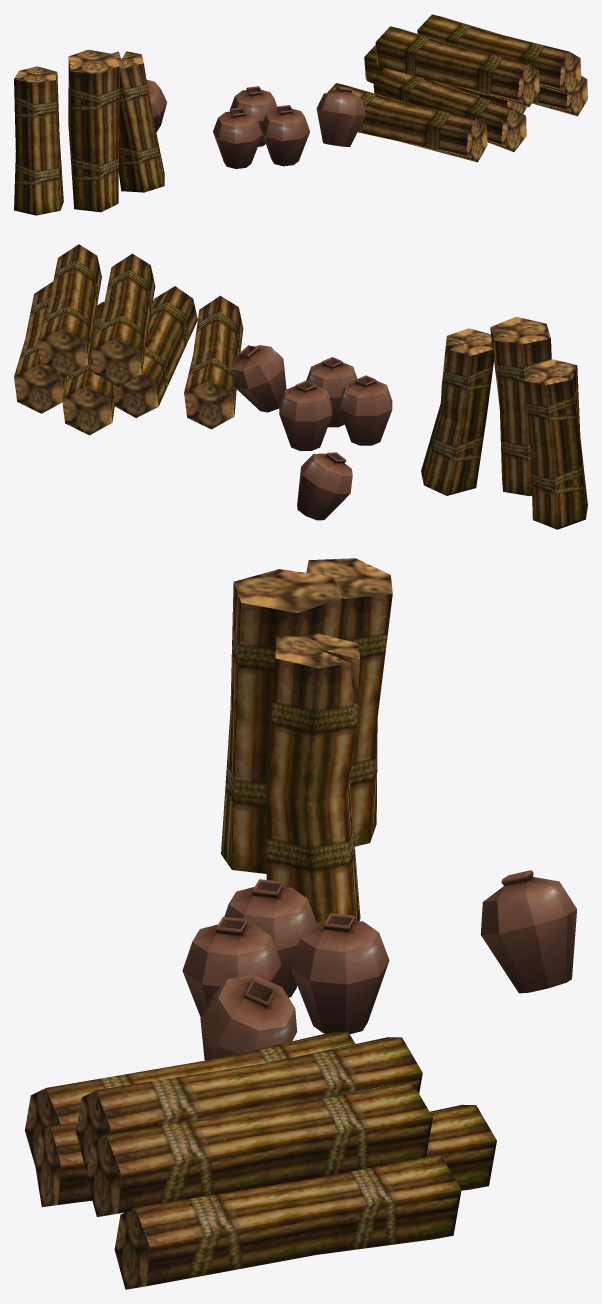
The model's file is cunlou_xiaowujian21.FBX.
3 views of the same model, one above another, from view 1: azimuth 30°, elevation 25°; view 2: azimuth 150°, elevation 25°; view 3: azimuth 270°, elevation 25° (orthographic). The views are drawn at different scales.
Visible parts, largest first — view 1: cunlou_xiaowujian21; view 2: cunlou_xiaowujian21; view 3: cunlou_xiaowujian21.
Boxes of the visible parts, x1,y1,x2,y2 form: cunlou_xiaowujian21: [14, 14, 587, 215]; cunlou_xiaowujian21: [14, 244, 587, 529]; cunlou_xiaowujian21: [25, 558, 576, 1289].
Size of the model in its own units: 433 by 114 by 196.
